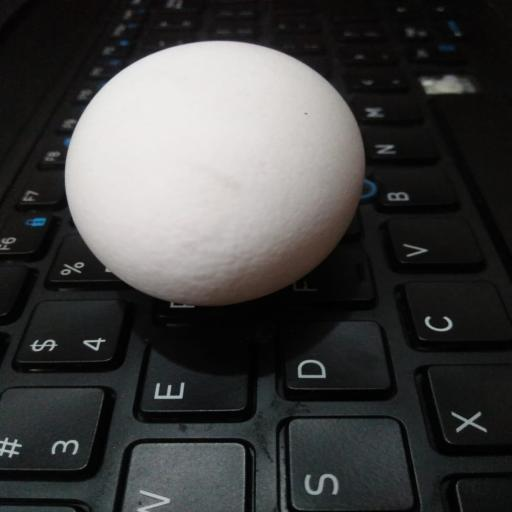telur: (62, 38, 376, 308)
